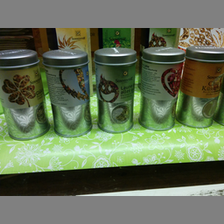spices: (43, 48, 93, 139), (1, 49, 49, 141), (176, 46, 224, 131), (139, 47, 186, 131), (95, 47, 137, 133)
